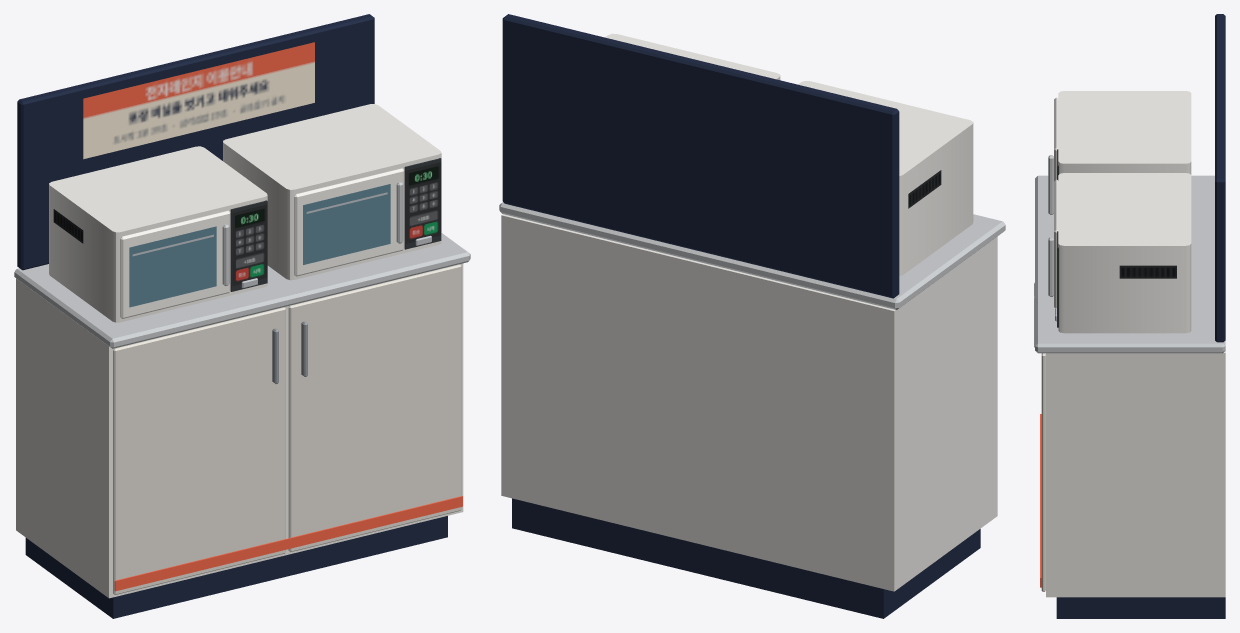
File: SC_Fix_Microwave_Station.gltf
The picture shows the model from 3 angles, left to right: view 1: azimuth 30°, elevation 25°; view 2: azimuth 150°, elevation 25°; view 3: azimuth 270°, elevation 25°; orthographic projection. The views are drawn at different scales.
Visible parts, largest first — view 1: SC_Fix_Microwave_Station; view 2: SC_Fix_Microwave_Station; view 3: SC_Fix_Microwave_Station.
Boxes of the visible parts, <box> form: SC_Fix_Microwave_Station: <box>14,14,470,618</box>; SC_Fix_Microwave_Station: <box>499,14,1005,618</box>; SC_Fix_Microwave_Station: <box>1034,14,1225,618</box>.
Bounding box in the file's own units: 1.12 × 1.36 × 0.532.
Materials: 2 (2 with a texture image).
